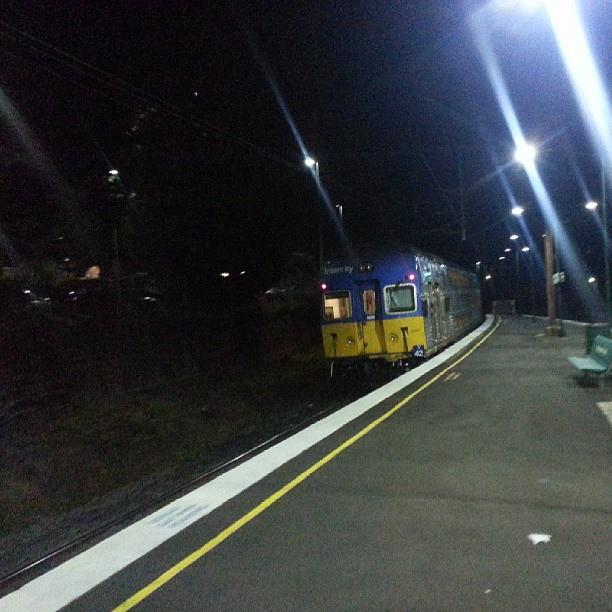Train: (321, 245, 492, 380)
